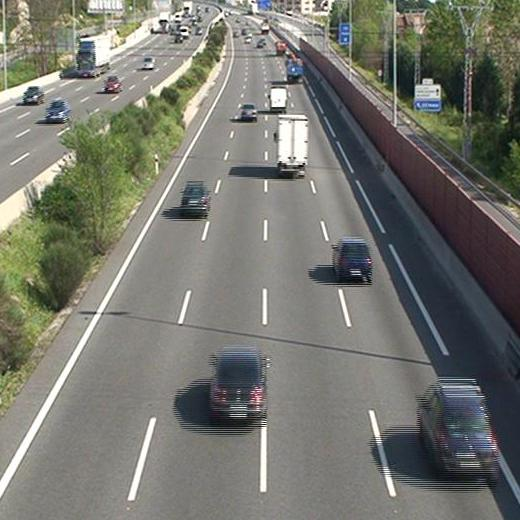car: (418, 384, 499, 477), (208, 350, 265, 420), (334, 239, 371, 280), (181, 184, 210, 215), (241, 105, 256, 120)
small-truck: (276, 114, 308, 176), (285, 57, 303, 80)
van: (269, 88, 287, 112)
